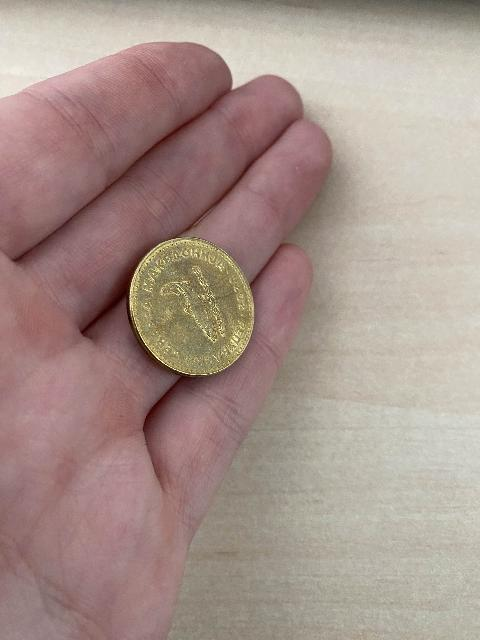2_coin: (128, 237, 253, 376)
